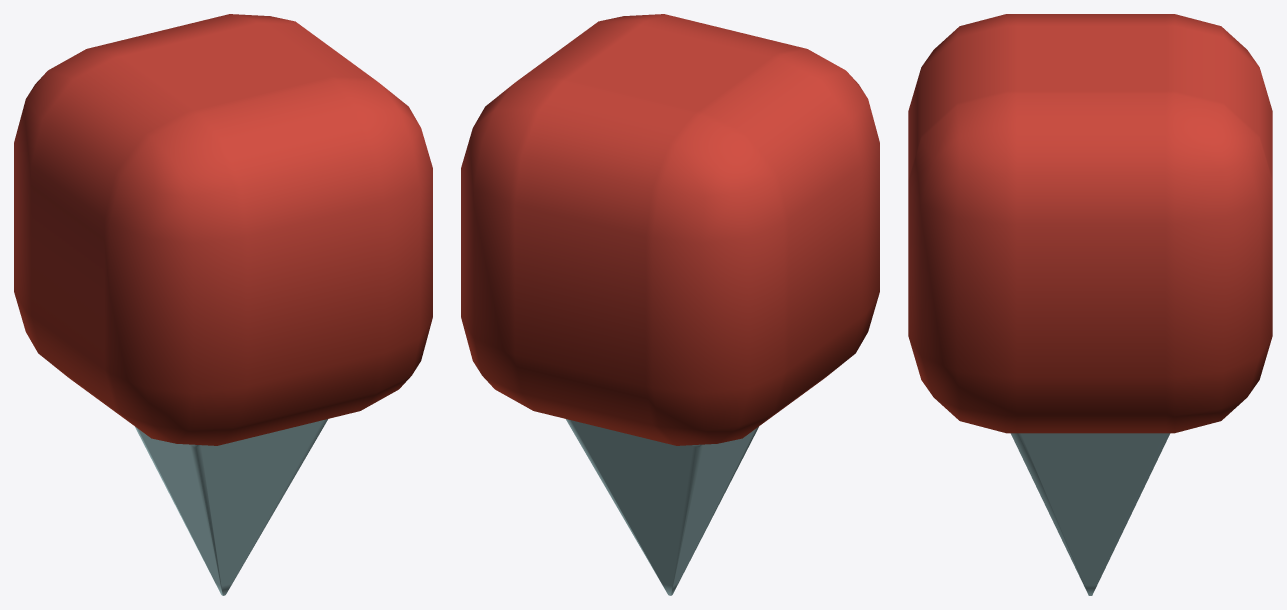
The model's file is Шип.fbx.
3 renders of one model, left to right at view 1: azimuth 30°, elevation 25°; view 2: azimuth 150°, elevation 25°; view 3: azimuth 270°, elevation 25°, orthographic.
Parts seen in each view (by area): view 1: Cube.003; view 2: Cube.003; view 3: Cube.003.
Part boxes in pixels (x1,y1,x2,y2): Cube.003: [14, 14, 432, 595]; Cube.003: [461, 14, 879, 595]; Cube.003: [908, 14, 1272, 595].
Bounding box in the file's own units: 33.92 × 55.11 × 33.92.
